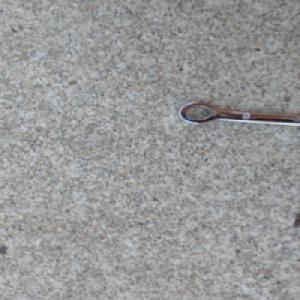Wrench: (177, 100, 300, 127)
